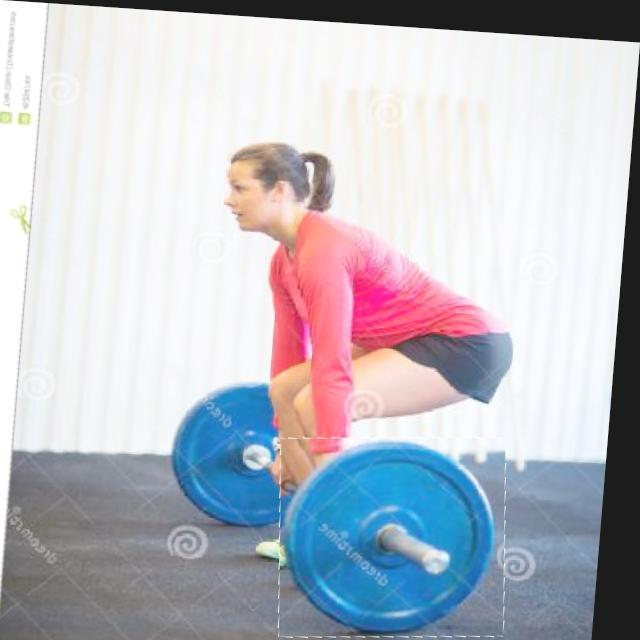barbell: (279, 424, 523, 640)
